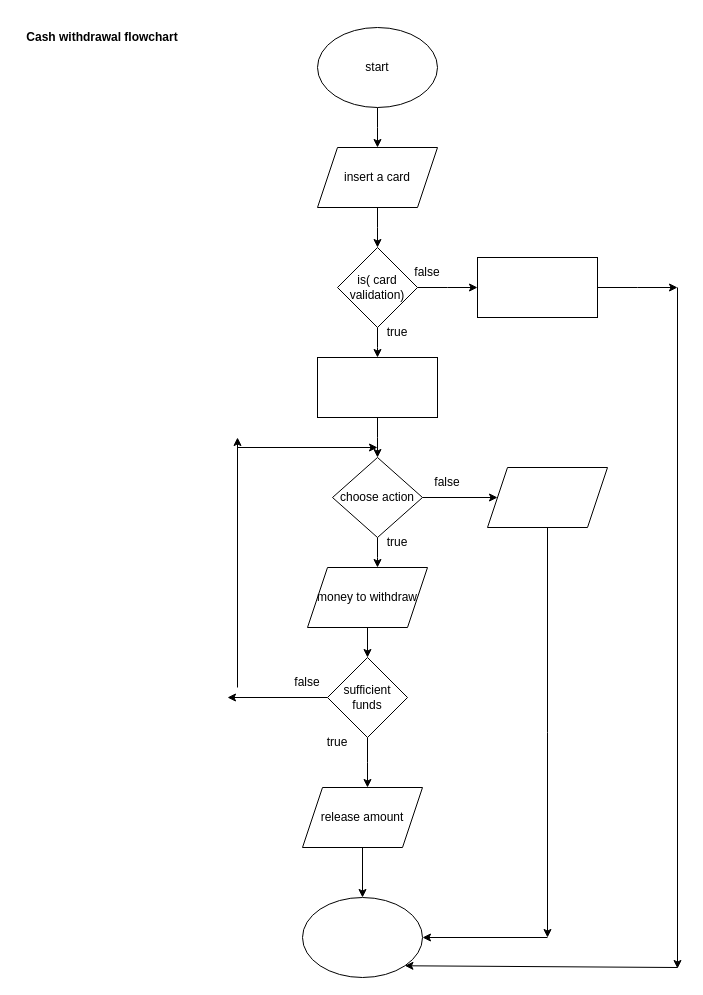
Some shapes in this 703 by 995 pixel diagram are drawn without their labels. Here are the shapes that lost their labels. From the top down, the centre of each, then its label:
the point at 537,287: hold the card
the point at 377,387: enter pin
the point at 547,497: exit
the point at 362,937: stop
